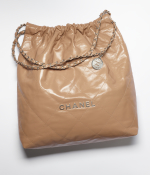channel: (14, 21, 137, 145), (24, 51, 94, 69), (54, 97, 102, 111)
